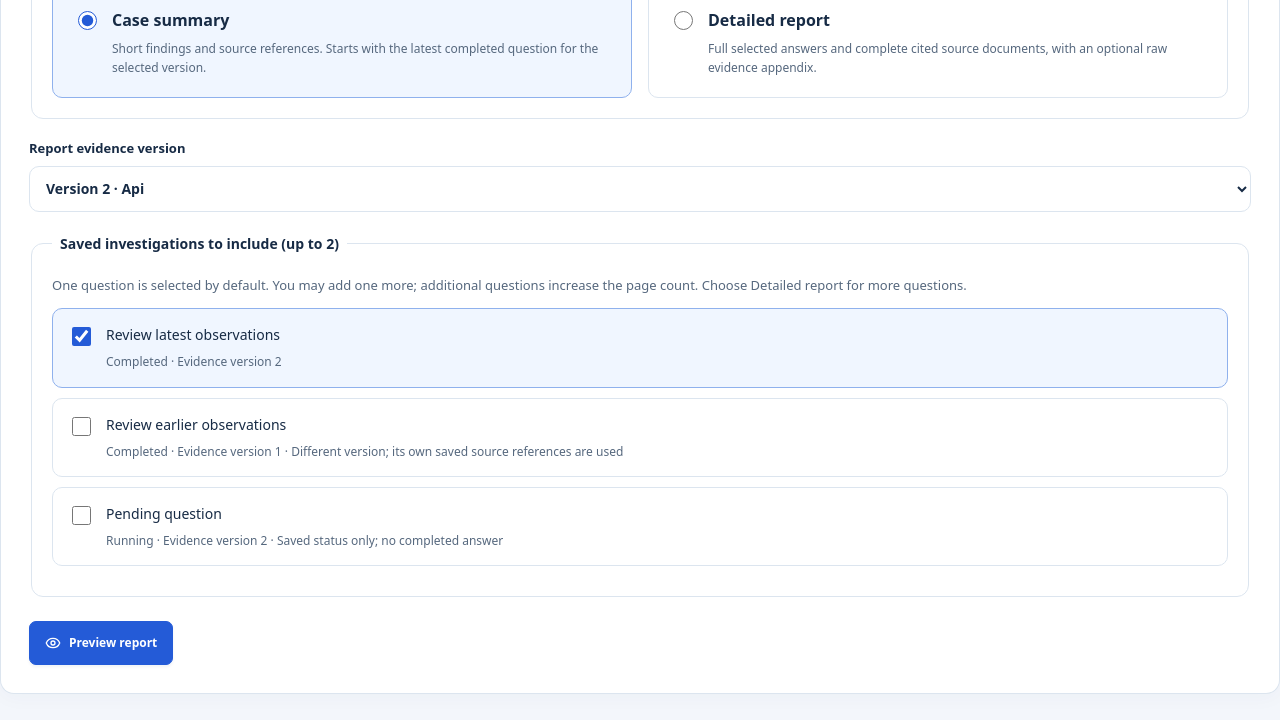
Scenario: frozen payment case reports › shows the frozen case number while validating the internal case identity
(page scrolled)
Expected: the dropdown labelled "Report evidence version" is shown, [29,166,1251,212]
Click the button "Preview report".
click(101, 643)  # box [29,621,173,665]
(page scrolled)
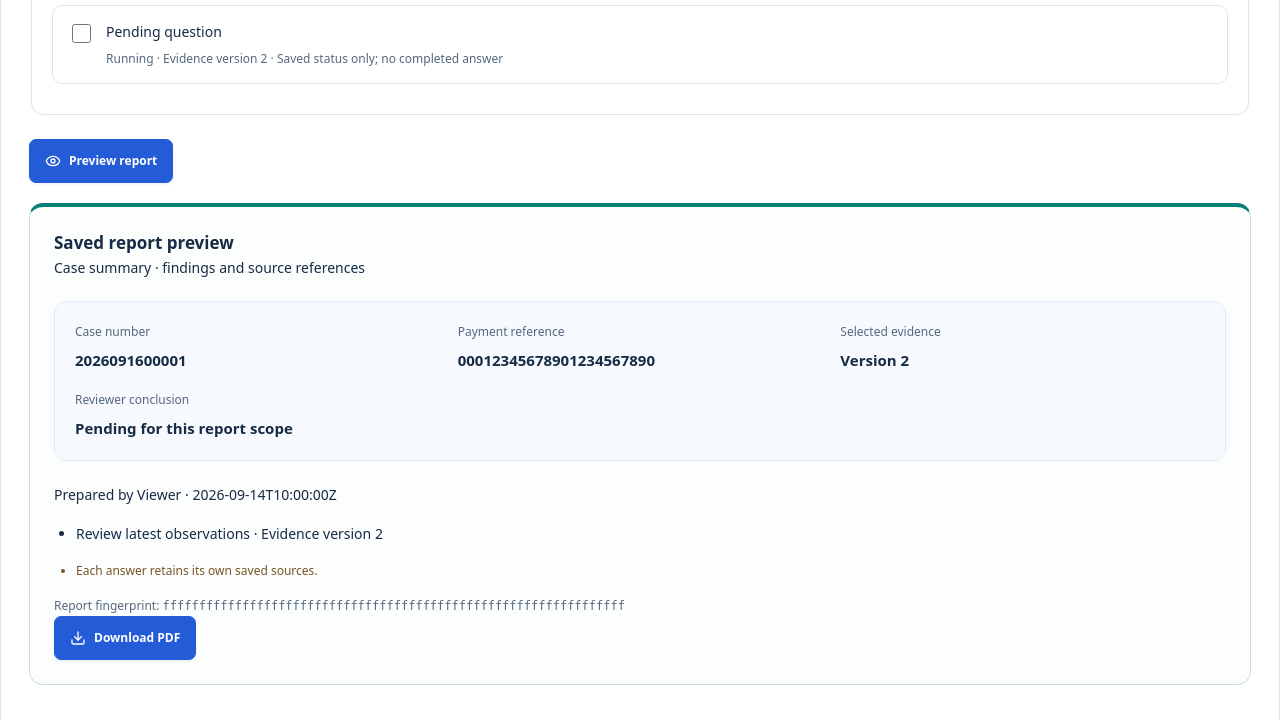
Expected: the text "2026091600001" is shown, [75,350,186,370]
Expected: the text "00012345678901234567890" is shown, [458,350,655,370]
